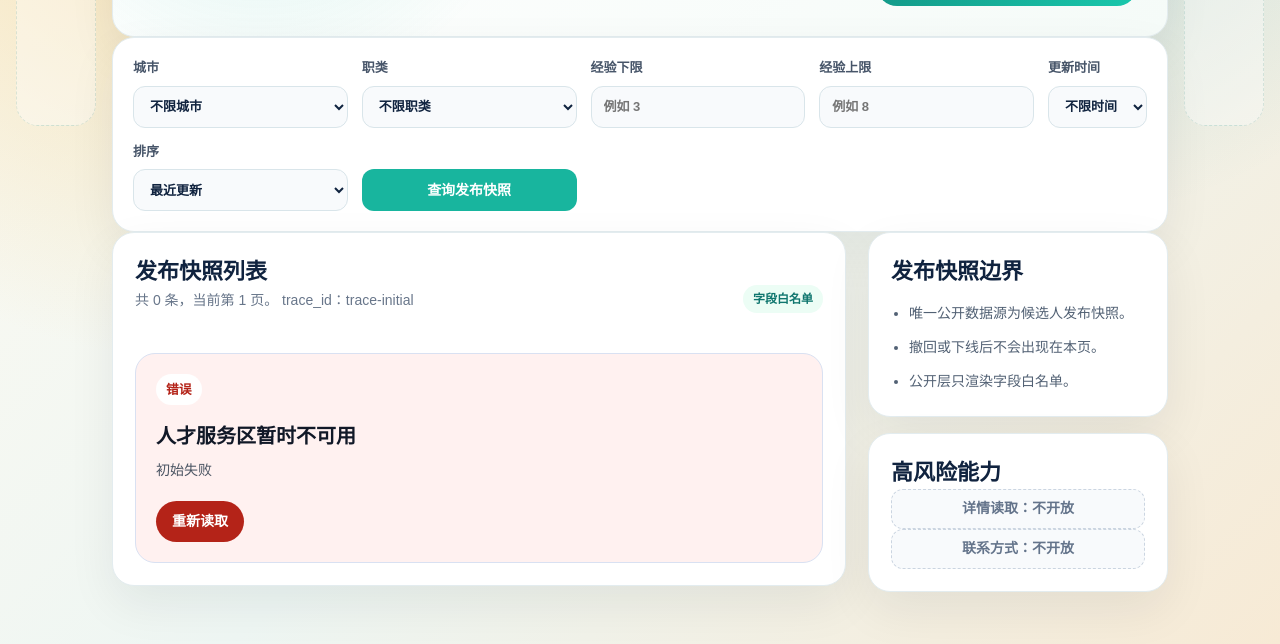
TalentServiceArea › maps unauthorized retry response to unauthorized state
The width and height of the screenshot is (1280, 644).
(page scrolled)
Click the button "重新读取". click: coordinates (200, 522)
box: 156,501 -> 244,542
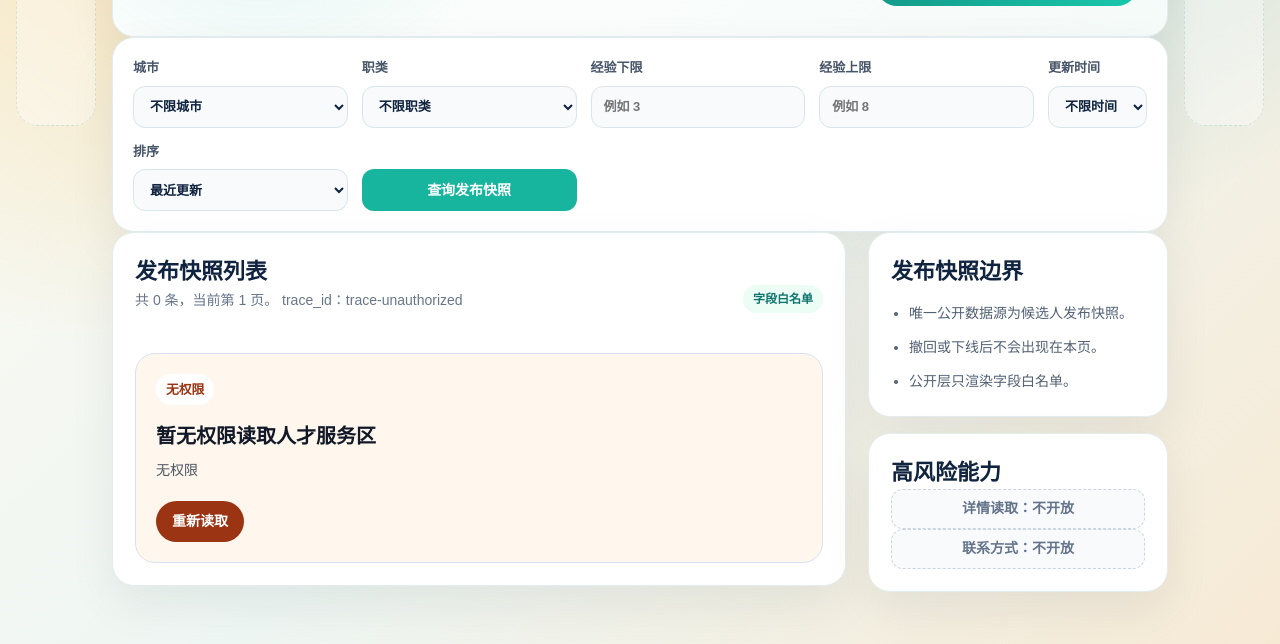
Expected: the heading "暂无权限读取人才服务区" is shown, 156,425 -> 376,447
